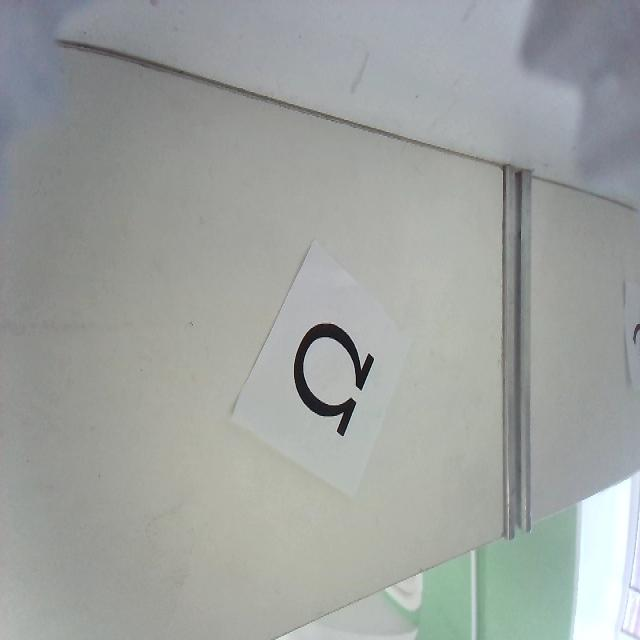OM: (293, 320, 374, 438)
